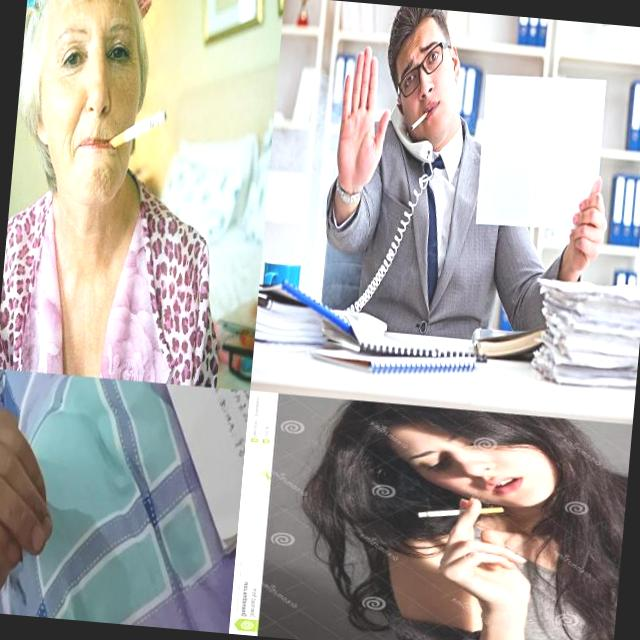cigarette: (104, 98, 170, 158), (414, 497, 510, 526), (409, 109, 428, 132)
